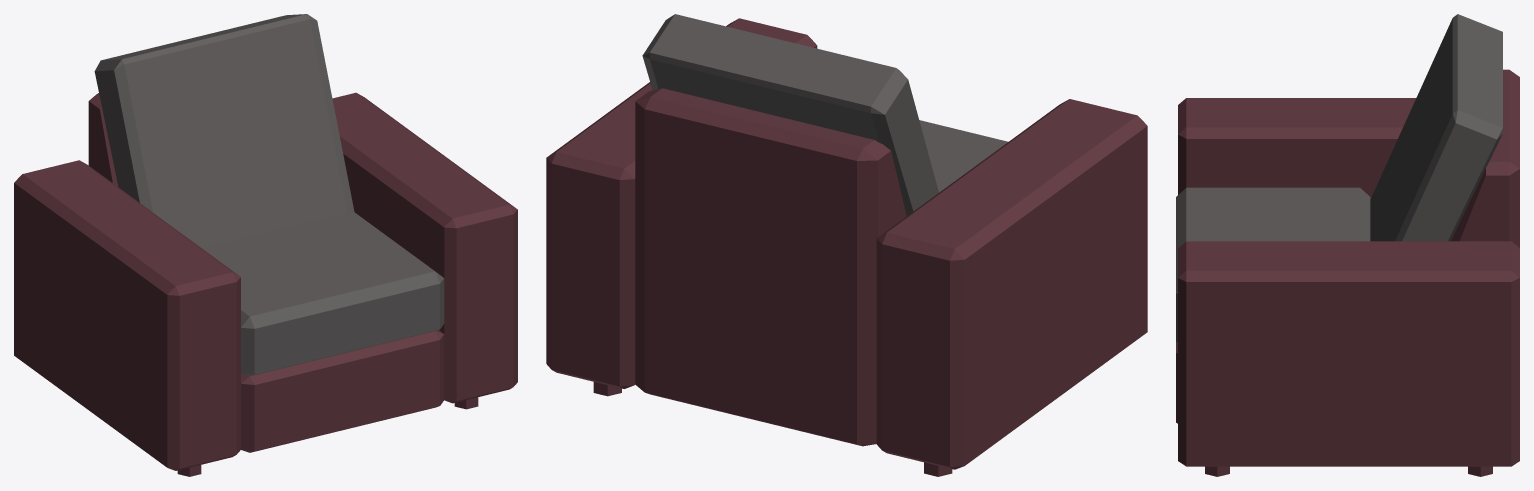
File: armchair-modern.fbx
3 renders of one model, left to right at view 1: azimuth 30°, elevation 25°; view 2: azimuth 150°, elevation 25°; view 3: azimuth 270°, elevation 25°, orthographic. The views are drawn at different scales.
Parts seen in each view (by area): view 1: armchair-modern; view 2: armchair-modern; view 3: armchair-modern.
Part boxes in pixels (x1,y1,x2,y2): armchair-modern: (14,14,517,476); armchair-modern: (546,14,1147,476); armchair-modern: (1176,14,1519,476).
Bounding box in the file's own units: 1.19 × 1.03 × 0.9523.
